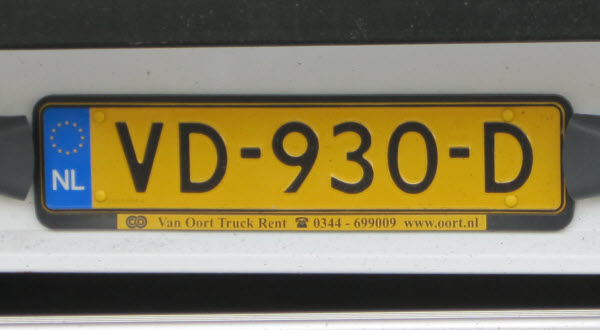license_plate: (40, 102, 565, 215)
